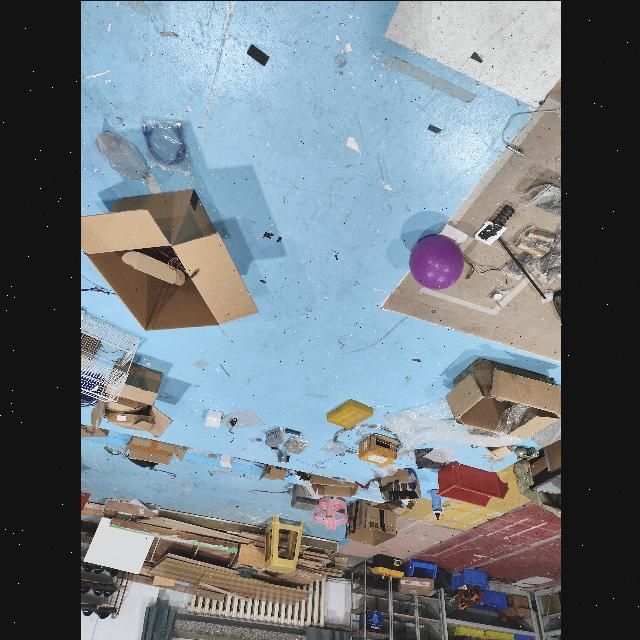P: (408, 234, 464, 292)
